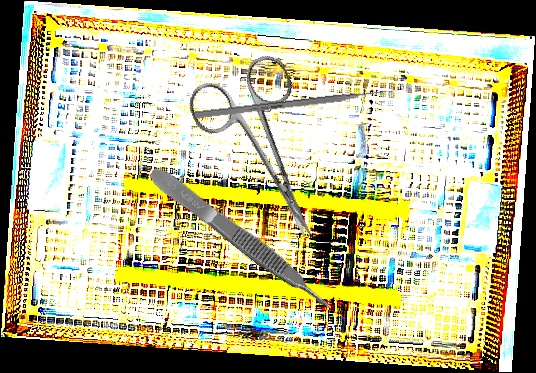Iris Scissors: (182, 49, 352, 261)
Pusher: (194, 86, 400, 120)
Tissue Forceps: (145, 161, 337, 319)
